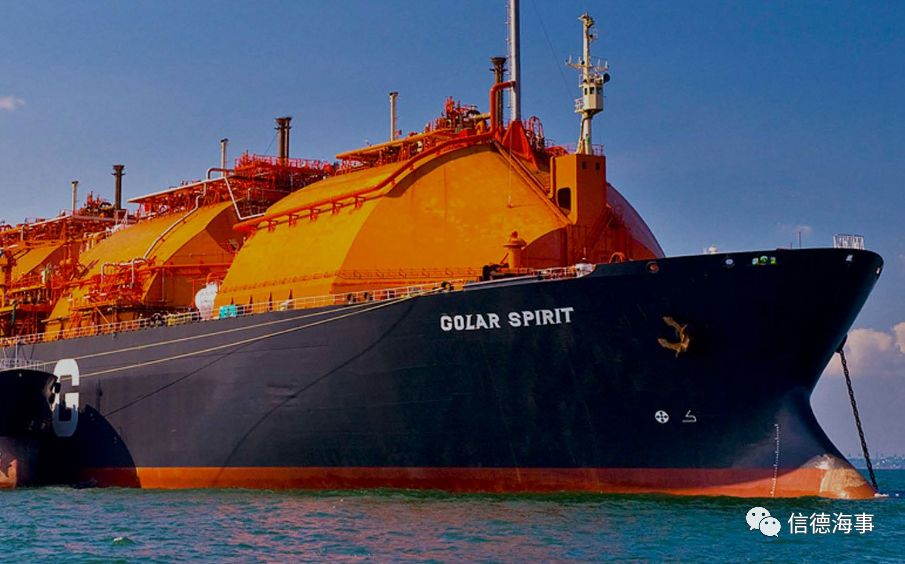Cargoship: (2, 3, 883, 500)
